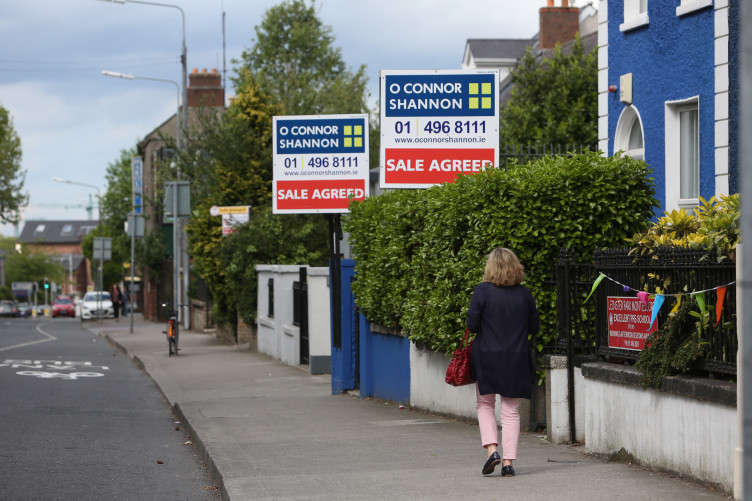property sign: (372, 56, 508, 205), (258, 106, 374, 219)
